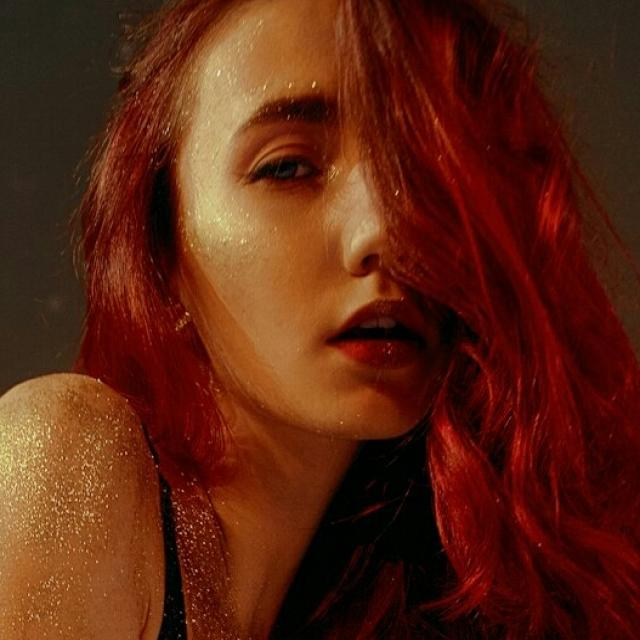front: (210, 53, 480, 396)
